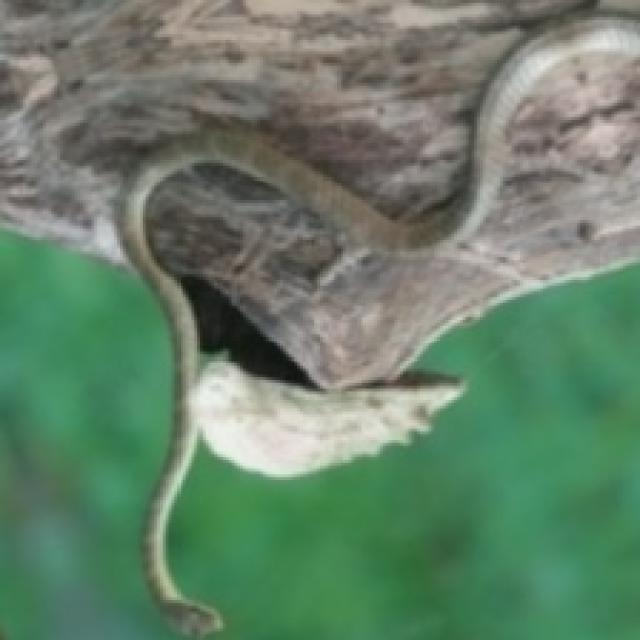paradise tree snake: (0, 0, 637, 631), (117, 11, 637, 631)
